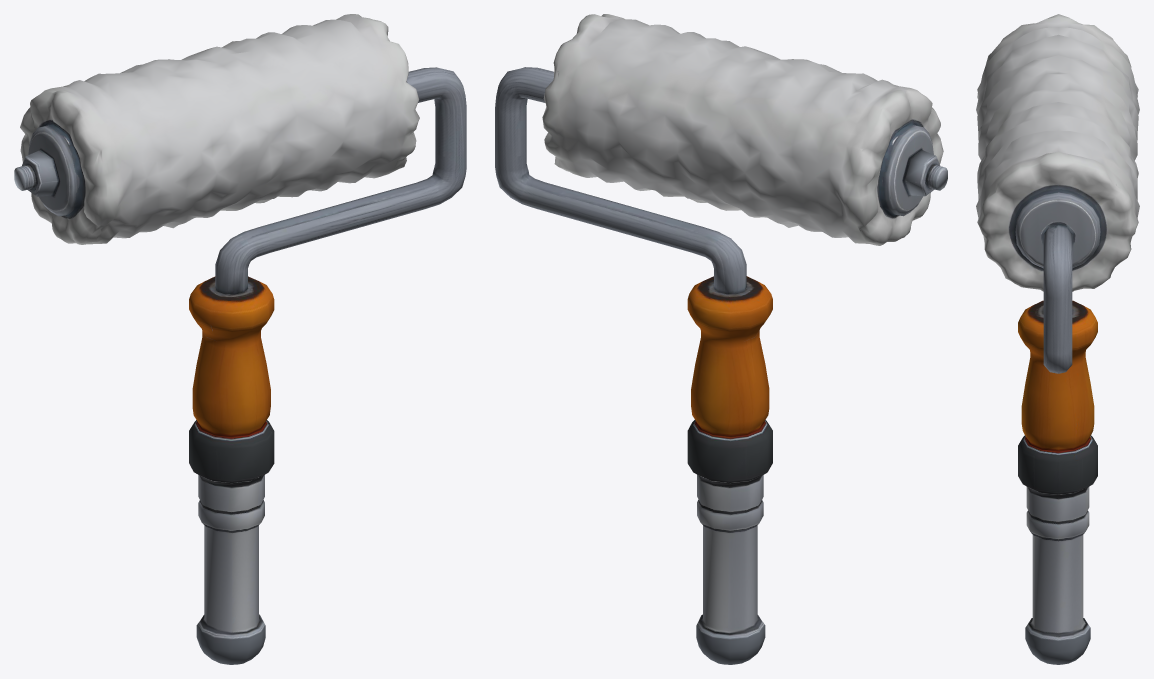
File: original_glb.glb
The picture shows the model from 3 angles, left to right: view 1: azimuth 30°, elevation 25°; view 2: azimuth 150°, elevation 25°; view 3: azimuth 270°, elevation 25°; orthographic projection. The views are drawn at different scales.
Parts seen in each view (by area): view 1: Chunky Chrome Wool Roller; view 2: Chunky Chrome Wool Roller; view 3: Chunky Chrome Wool Roller.
Part boxes in pixels (x1,y1,x2,y2): Chunky Chrome Wool Roller: [14, 14, 466, 664]; Chunky Chrome Wool Roller: [495, 14, 947, 664]; Chunky Chrome Wool Roller: [976, 14, 1139, 664].
Size of the model in its own units: 0.7637 by 0.998 by 0.2598.
Materials: 1 (1 with a texture image).
